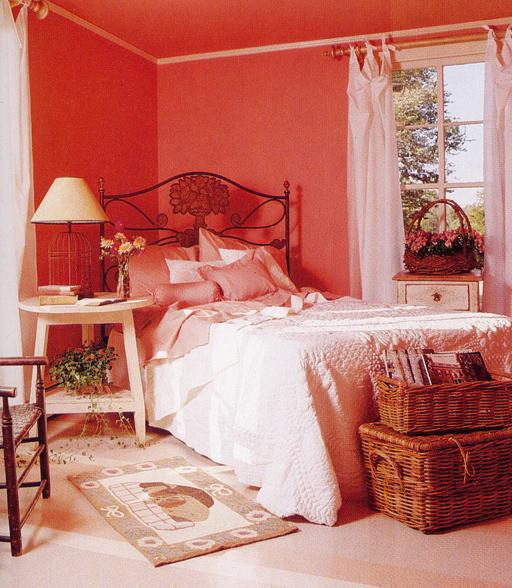Cama: (105, 186, 505, 526)
Ventana: (381, 63, 495, 262)
